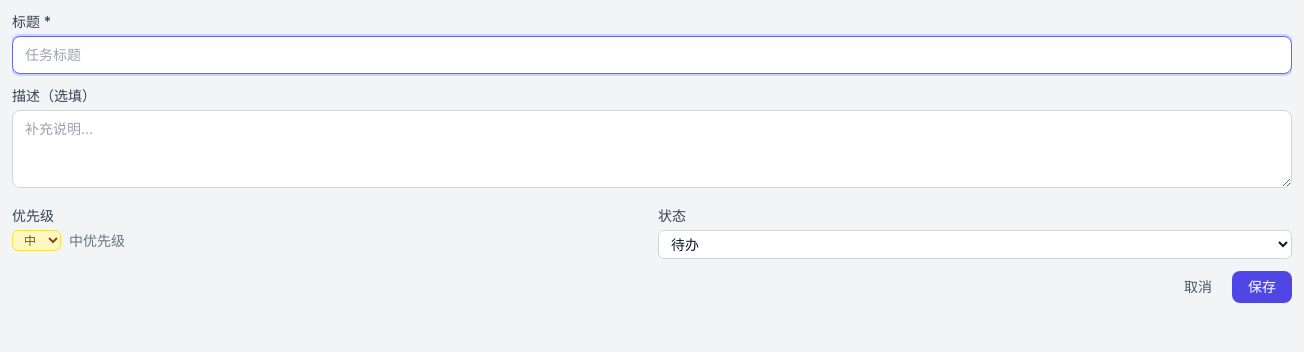
Test case: TaskForm › 标题为空时阻止保存并提示
The width and height of the screenshot is (1304, 352).
Click the button "保存" at (1262, 287), box [1232,271,1292,303]
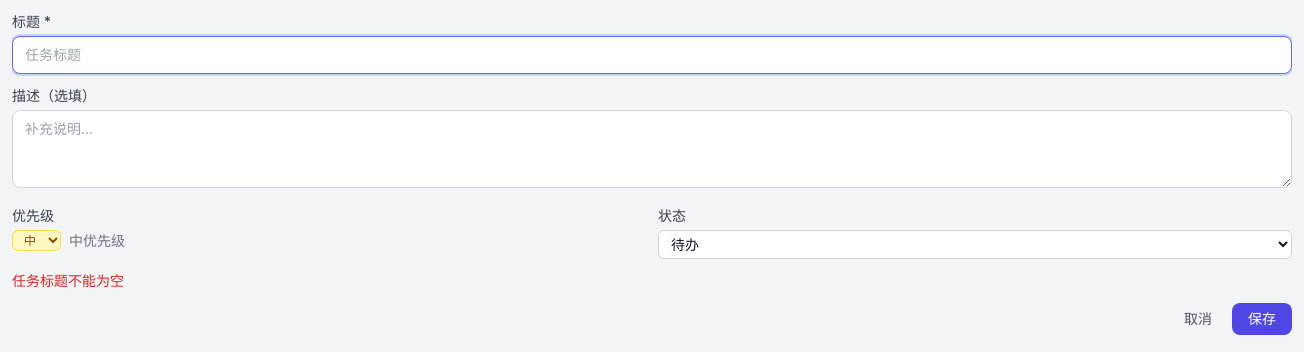
Expected: the text "标题不能为空" is shown, [12,272,124,289]
